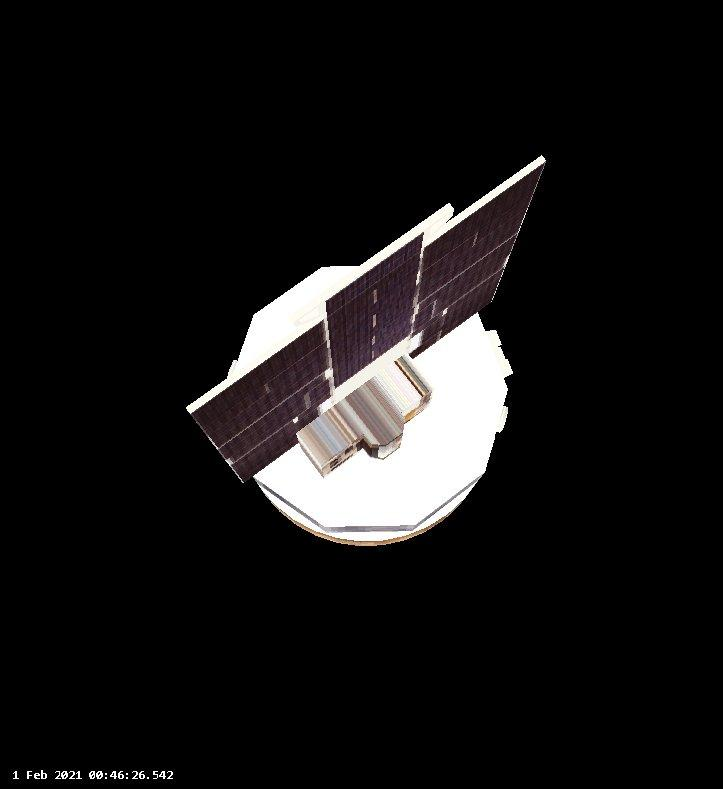body: (230, 260, 512, 550)
solar: (407, 159, 546, 363), (187, 320, 335, 484), (323, 214, 446, 392)
